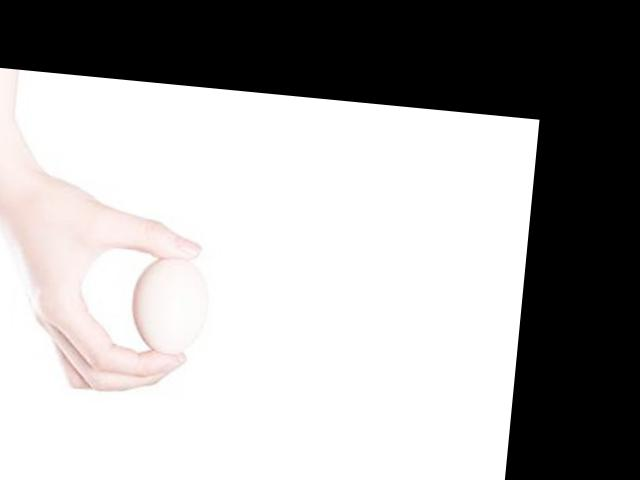egg: (127, 253, 212, 358)
